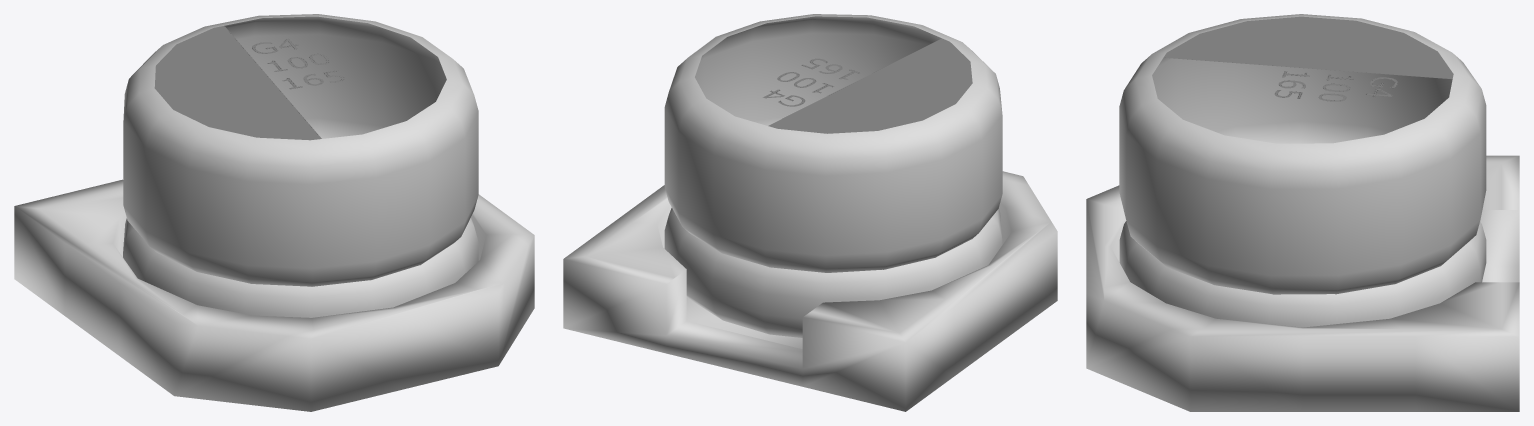
Rendered from small cap.FBX.
3 renders of one model, left to right at view 1: azimuth 30°, elevation 25°; view 2: azimuth 150°, elevation 25°; view 3: azimuth 270°, elevation 25°, orthographic. The views are drawn at different scales.
Visible parts, largest first — view 1: TopMound, Base, BottomMound, Top Label; view 2: TopMound, Base, BottomMound, Top Label; view 3: TopMound, Base, BottomMound, Top Label.
Part boxes in pixels (<box>): TopMound: <box>123,14,478,286</box>; Base: <box>14,179,534,411</box>; BottomMound: <box>123,217,478,317</box>; Top Label: <box>154,25,344,140</box>; TopMound: <box>664,14,1002,272</box>; Base: <box>563,171,1057,411</box>; BottomMound: <box>664,208,1002,337</box>; Top Label: <box>763,38,972,133</box>; TopMound: <box>1119,14,1486,294</box>; Base: <box>1086,155,1519,411</box>; BottomMound: <box>1119,221,1486,327</box>; Top Label: <box>1163,16,1453,101</box>.
Bounding box in the file's own units: 64.59 × 40.03 × 65.27.
Materials: 1 (1 with a texture image).
